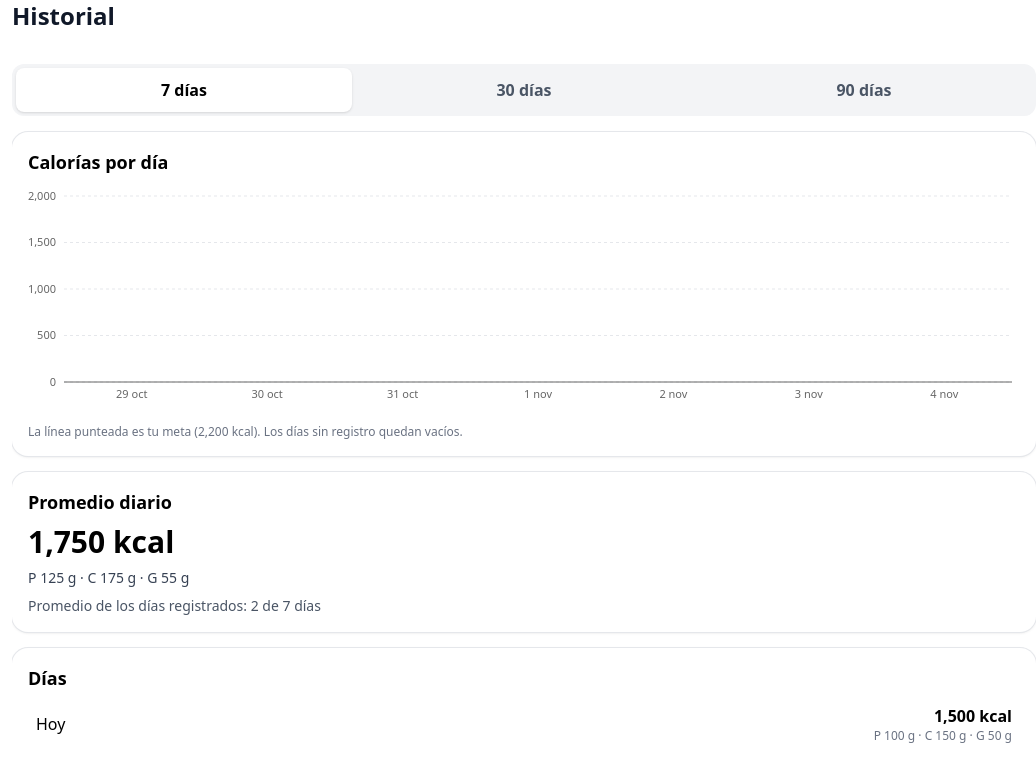
Scenario: Historial › cambiar a 30 días pide otro rango; tocar un día abre Hoy
Expected: the text "1,750 kcal" is shown, x1=28 y1=521 x2=174 y2=562
Click the radio button labelled "30 días": (524,90) x1=496 y1=79 x2=552 y2=101
(page scrolled)
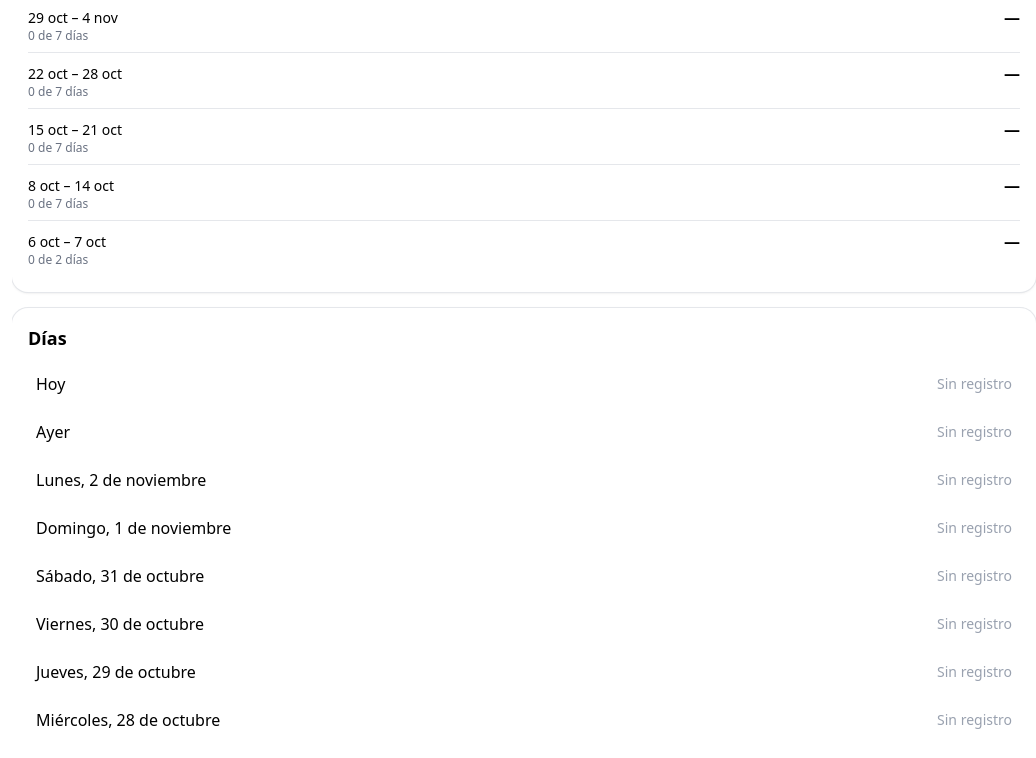
Click the text "Hoy": (51,384) x1=36 y1=372 x2=65 y2=396
(page scrolled)
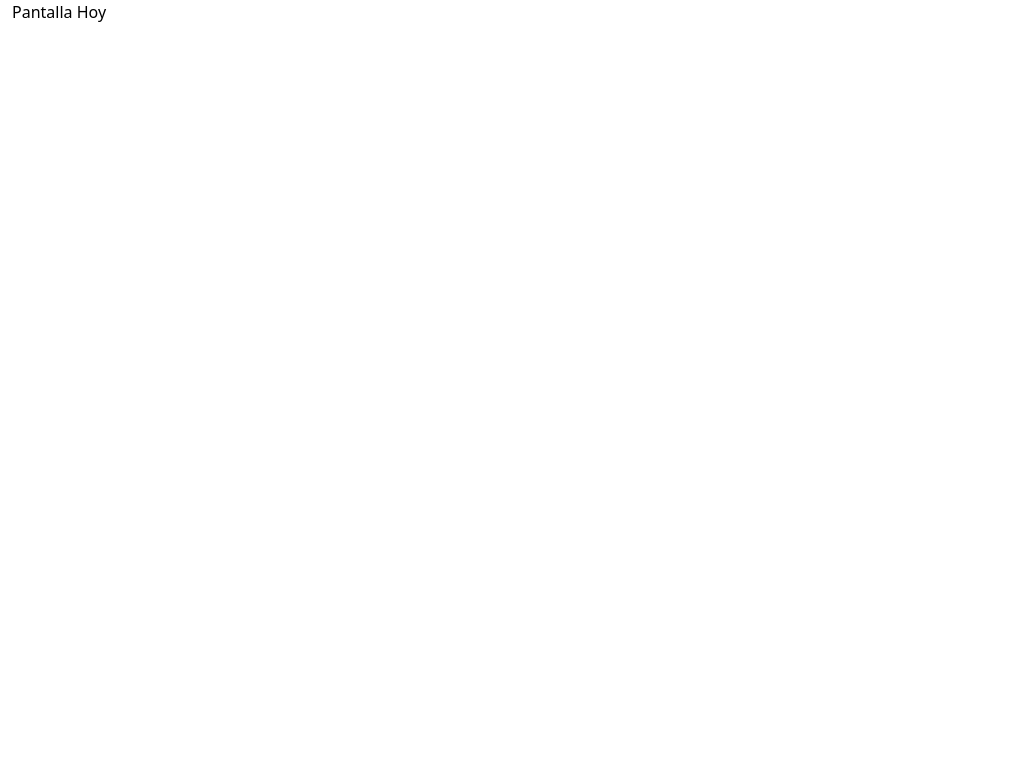
Result: the text "Pantalla Hoy" is shown at x1=12 y1=1 x2=106 y2=23
